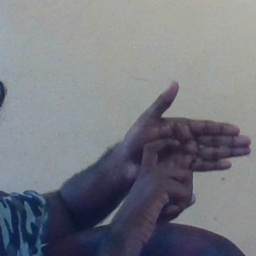R: (115, 81, 252, 223)
